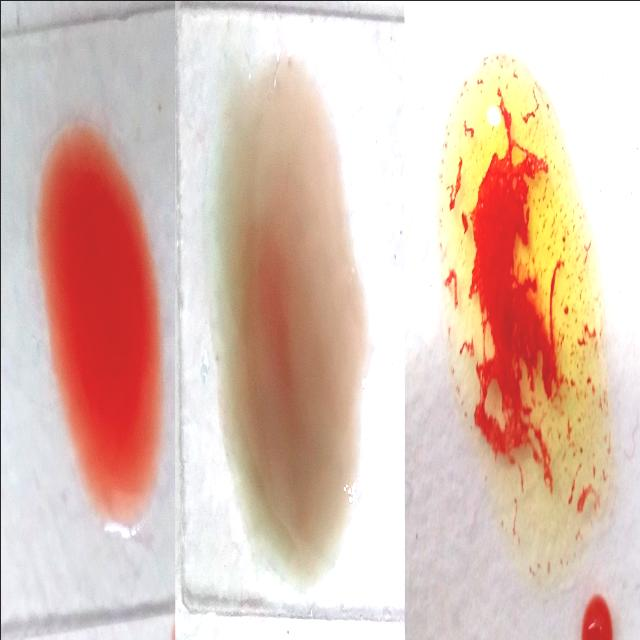B: (441, 55, 600, 560)
